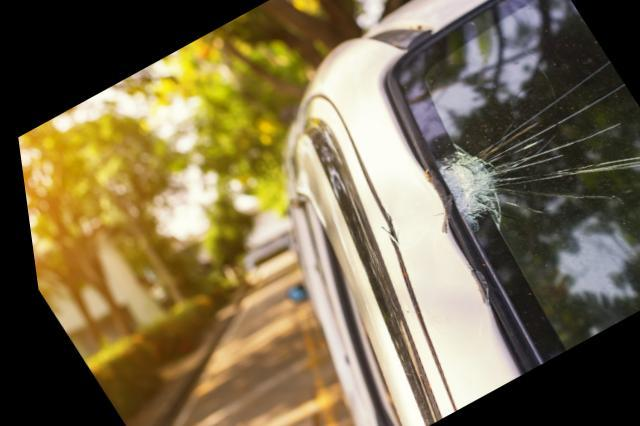dent: (368, 168, 479, 348)
glass shatter: (395, 0, 640, 364)
